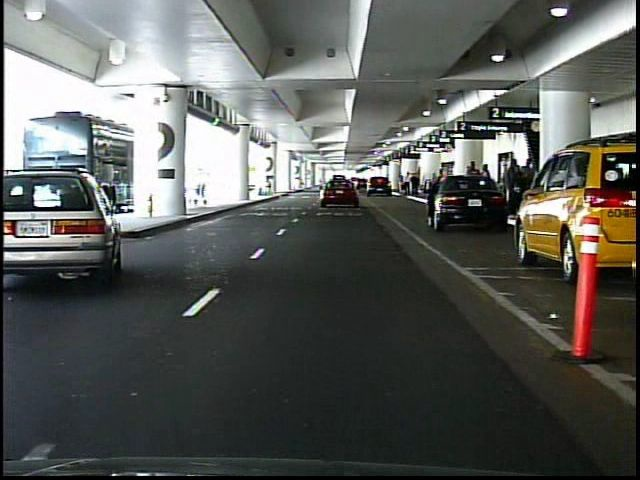person: (501, 159, 522, 217), (465, 158, 482, 209), (479, 162, 494, 209), (403, 170, 412, 197), (411, 173, 420, 198), (398, 175, 405, 192)
